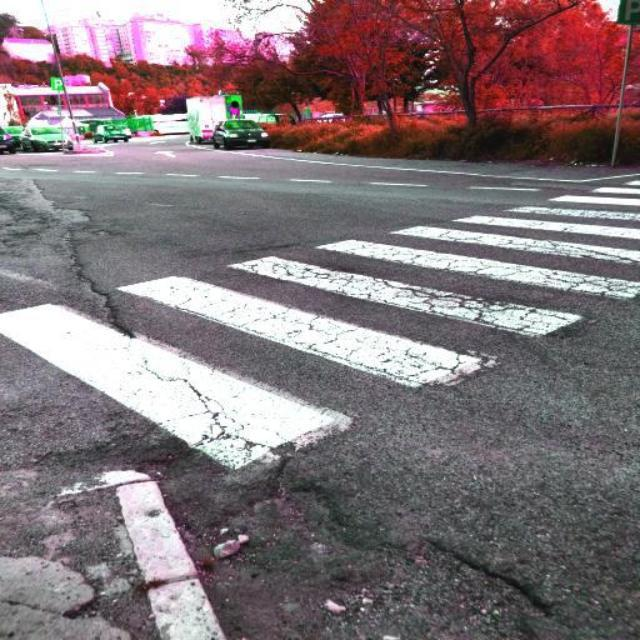sidewalk: (1, 177, 640, 471)
